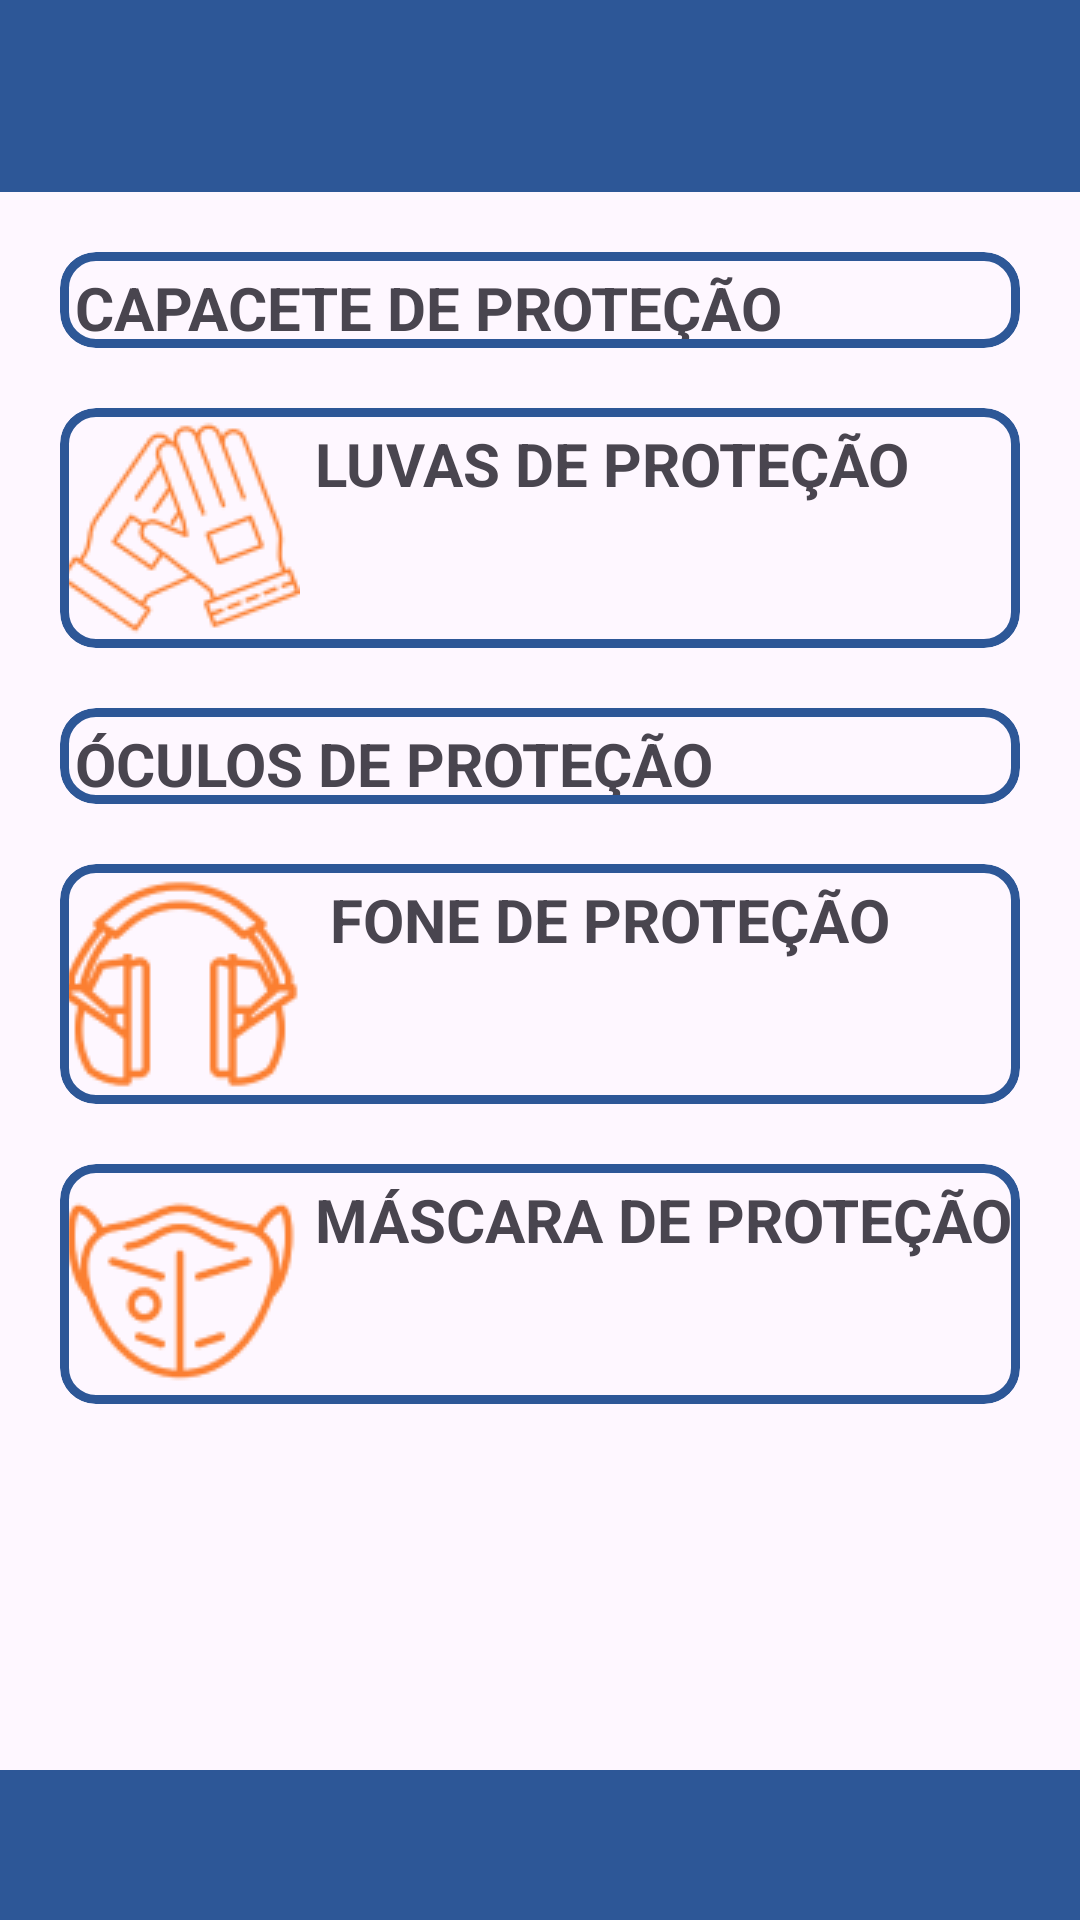

Icons on this 1080w x 1920h Android screen, each with the point to tap as (x,y):
foneprotecao: (180,984)
mascaraprotecao: (180,1284)
